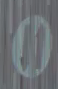Two way: (3, 7, 56, 79)
